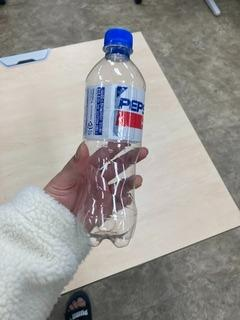BIODEGRADABLE: (76, 22, 148, 255)
